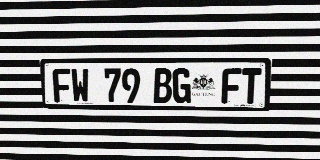7: (103, 68, 122, 103)
9: (122, 68, 140, 103)
B: (153, 68, 172, 103)
F: (221, 68, 242, 104), (52, 68, 72, 102)
G: (172, 68, 191, 103)
T: (241, 68, 262, 104)
W: (71, 68, 90, 103)
